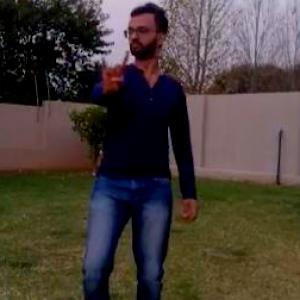takeoff-hand: (93, 46, 136, 96)
